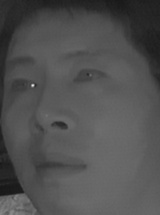eye: (70, 64, 108, 91), (8, 75, 37, 95)
mouth: (28, 147, 86, 186)
